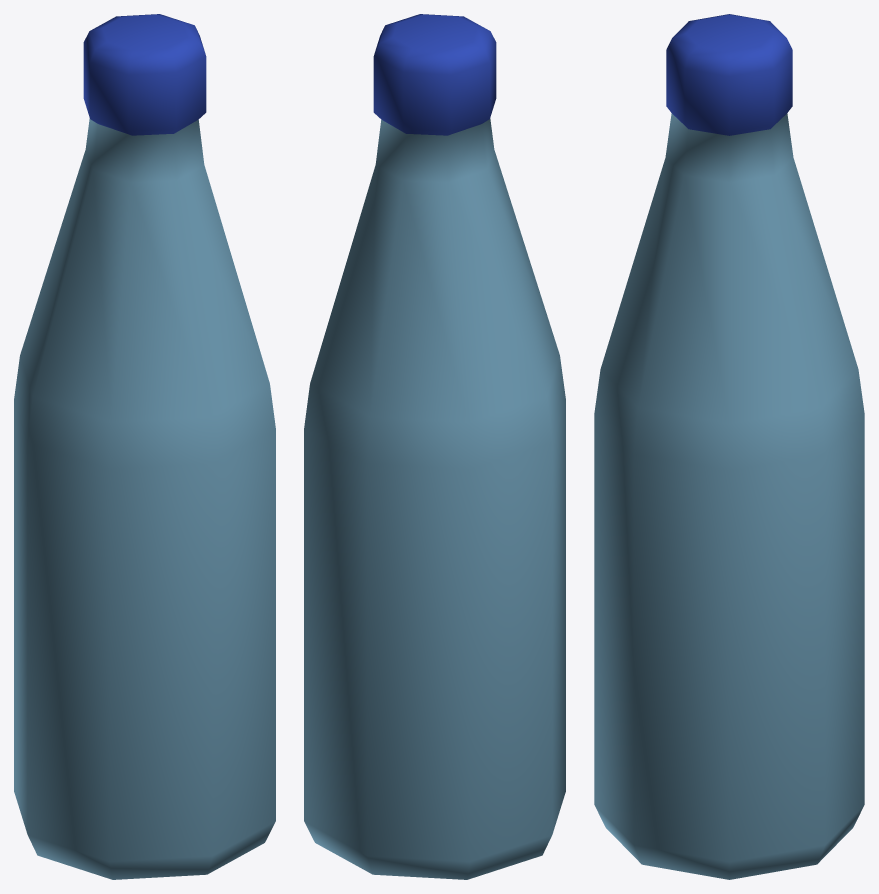
Rendered from water_bottle.fbx.
The picture shows the model from 3 angles, left to right: view 1: azimuth 30°, elevation 25°; view 2: azimuth 150°, elevation 25°; view 3: azimuth 270°, elevation 25°; orthographic projection.
Visible parts, largest first — view 1: water_bottle; view 2: water_bottle; view 3: water_bottle.
Boxes of the visible parts, x1,y1,x2,y2 form: water_bottle: [14, 14, 275, 879]; water_bottle: [304, 14, 565, 879]; water_bottle: [594, 14, 864, 879].
Size of the model in its own units: 0.08 by 0.2625 by 0.08.
